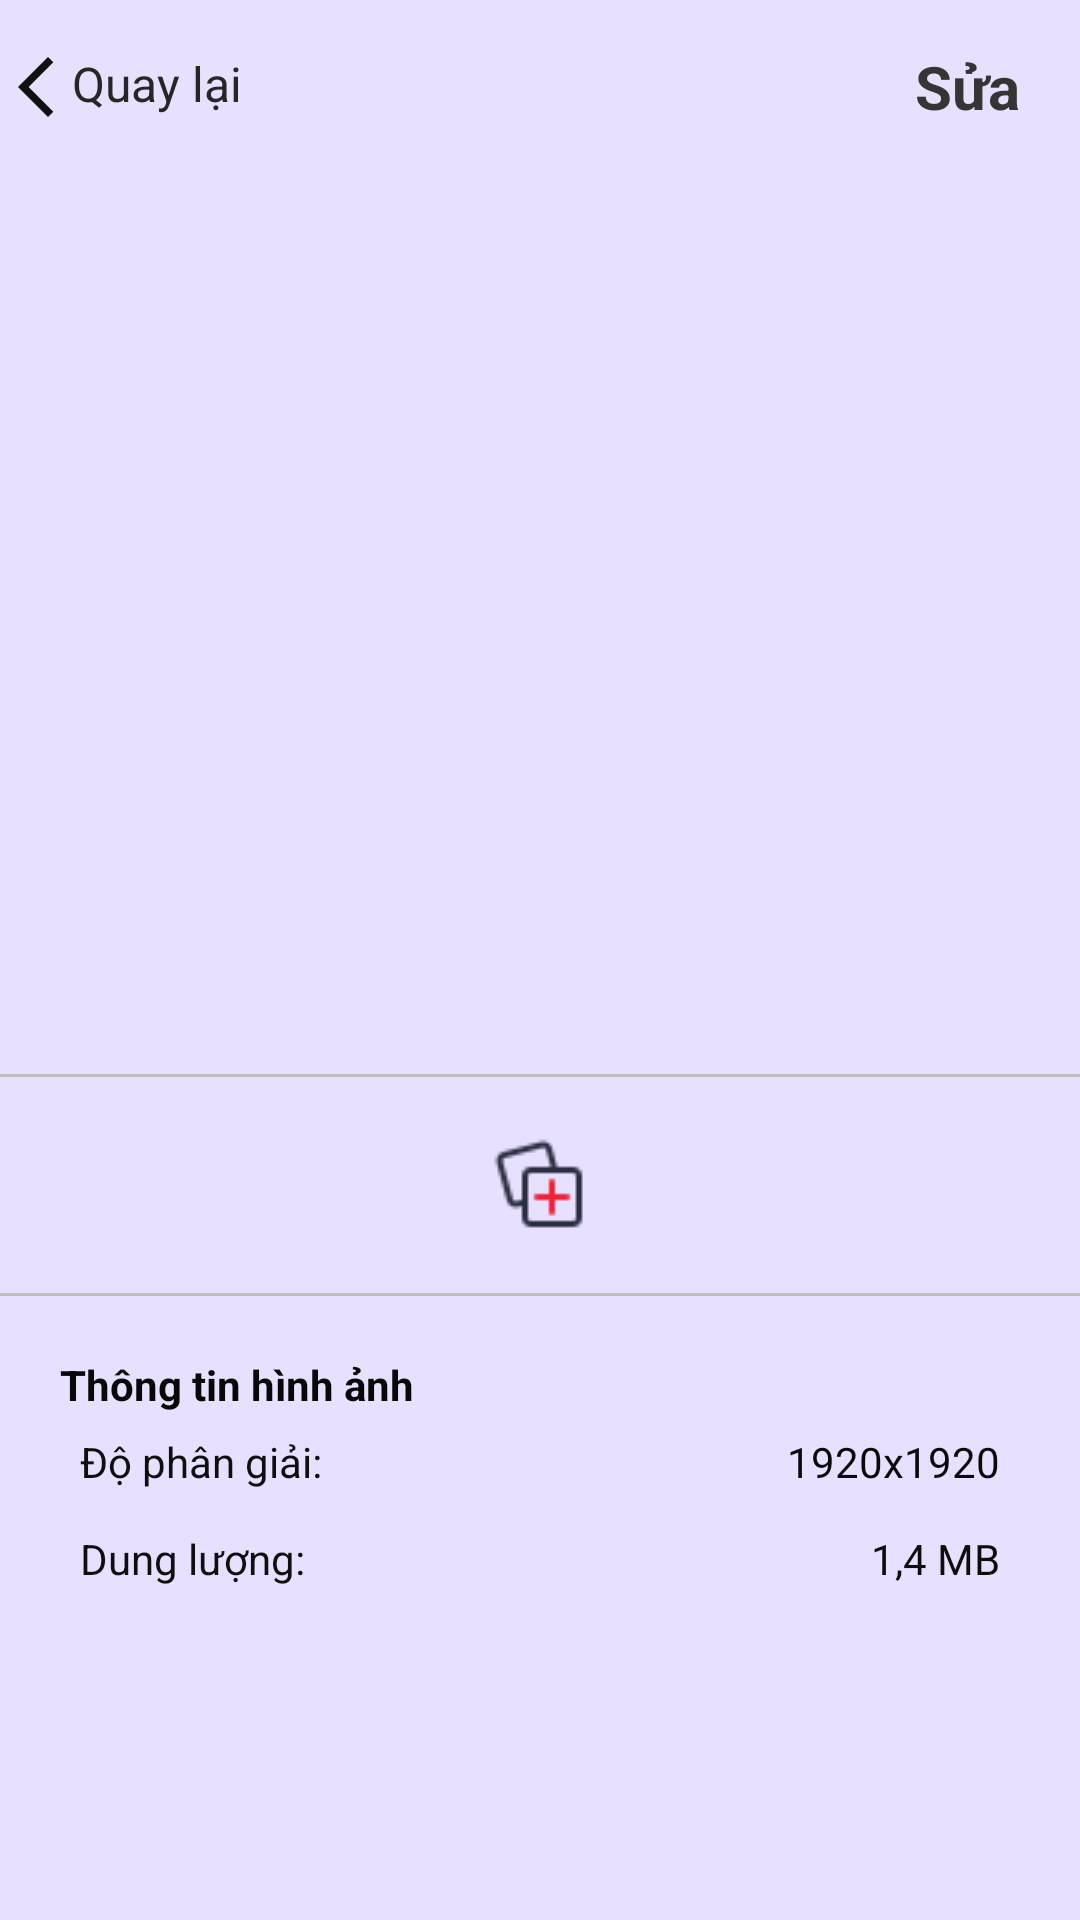

Named icons in this screenshot (1080 × 1920) and their bounding boxes, {"left": x1, "top": y1, "right": x2, "bottom": y2}:
add album: {"left": 495, "top": 1140, "right": 583, "bottom": 1228}
